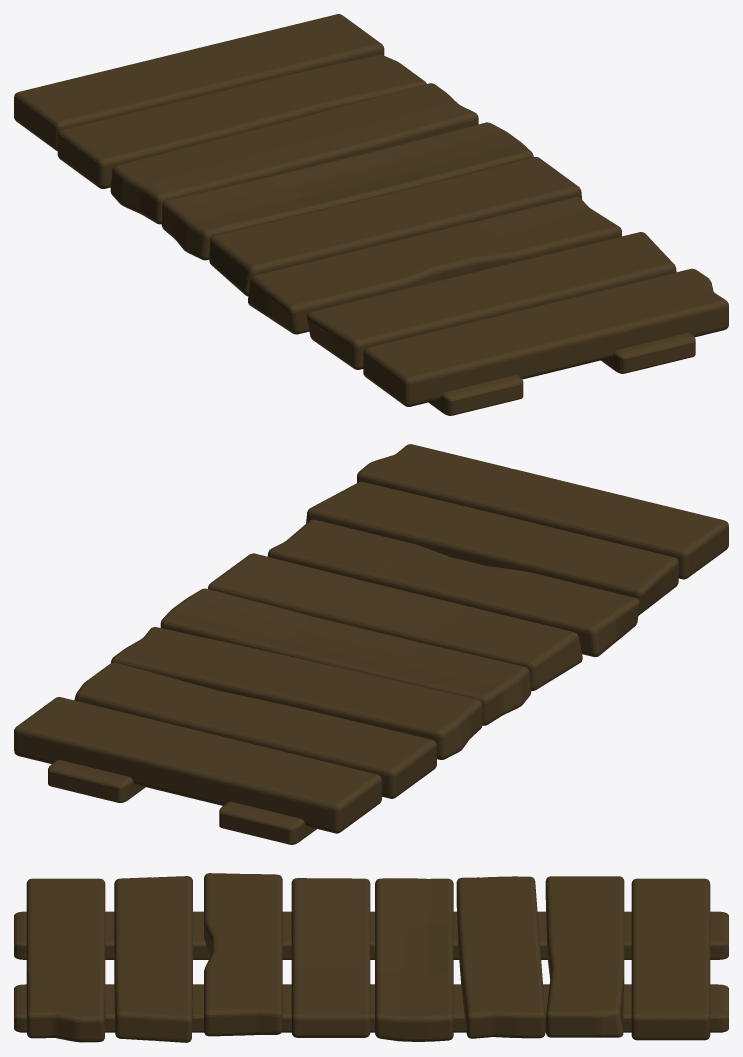
File: Steg.fbx
3 renders of one model, top to bottom at view 1: azimuth 30°, elevation 25°; view 2: azimuth 150°, elevation 25°; view 3: azimuth 270°, elevation 25°, orthographic. The views are drawn at different scales.
Visible parts, largest first — view 1: Cube.011, Cube.009, Cube.006, Cube.010, Cube.008, Cube.003, Cube.007, Cube.005, Cube.012, Cube.013; view 2: Cube.003, Cube.010, Cube.006, Cube.011, Cube.009, Cube.008, Cube.005, Cube.007, Cube.012, Cube.013; view 3: Cube.006, Cube.003, Cube.011, Cube.010, Cube.007, Cube.008, Cube.009, Cube.005, Cube.013, Cube.012.
Boxes of the visible parts, x1,y1,x2,y2 form: Cube.011: (363, 268, 728, 406); Cube.009: (248, 196, 621, 334); Cube.006: (110, 83, 478, 224); Cube.010: (306, 232, 676, 369); Cube.008: (209, 157, 581, 296); Cube.003: (14, 14, 384, 150); Cube.007: (161, 122, 533, 260); Cube.005: (57, 55, 426, 188); Cube.012: (428, 375, 523, 415); Cube.013: (601, 333, 695, 373); Cube.003: (14, 697, 381, 833); Cube.010: (306, 482, 678, 615); Cube.006: (111, 627, 482, 759); Cube.011: (357, 444, 728, 579); Cube.009: (267, 519, 639, 657); Cube.008: (208, 553, 582, 690); Cube.005: (74, 662, 436, 798); Cube.007: (160, 588, 531, 725); Cube.012: (219, 801, 316, 844); Cube.013: (48, 760, 145, 802); Cube.006: (456, 876, 545, 1038); Cube.003: (631, 878, 710, 1040); Cube.011: (26, 878, 105, 1042); Cube.010: (114, 876, 192, 1042); Cube.007: (375, 878, 453, 1041); Cube.008: (291, 878, 370, 1037); Cube.009: (204, 873, 282, 1036); Cube.005: (545, 876, 624, 1037); Cube.013: (14, 984, 728, 1032); Cube.012: (14, 911, 728, 959).
Bounding box in the file's own units: 483 × 57.59 × 991.
